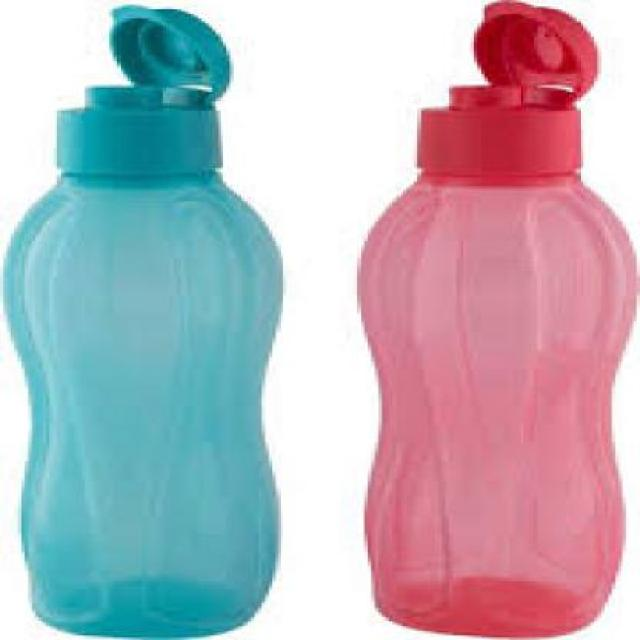Drinking: (349, 30, 626, 638), (6, 30, 283, 633)
